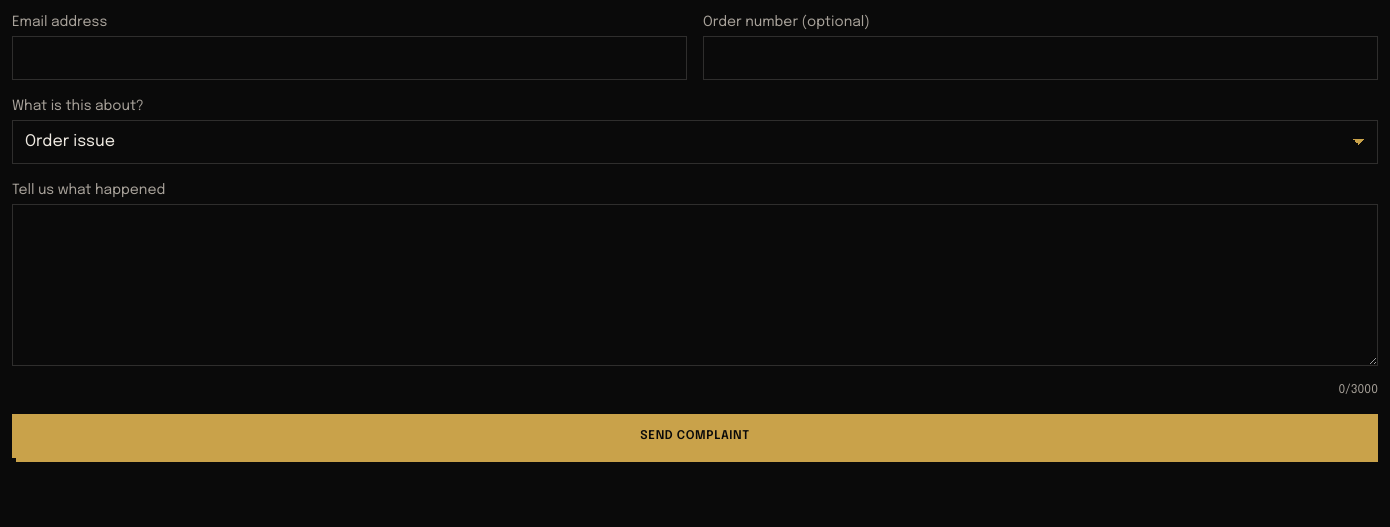
Test: ComplaintForm › submits complaint details and shows a reference
Type "customer@example.com" into the field labelled "Email address" at (350, 58), box [12,36,687,80]
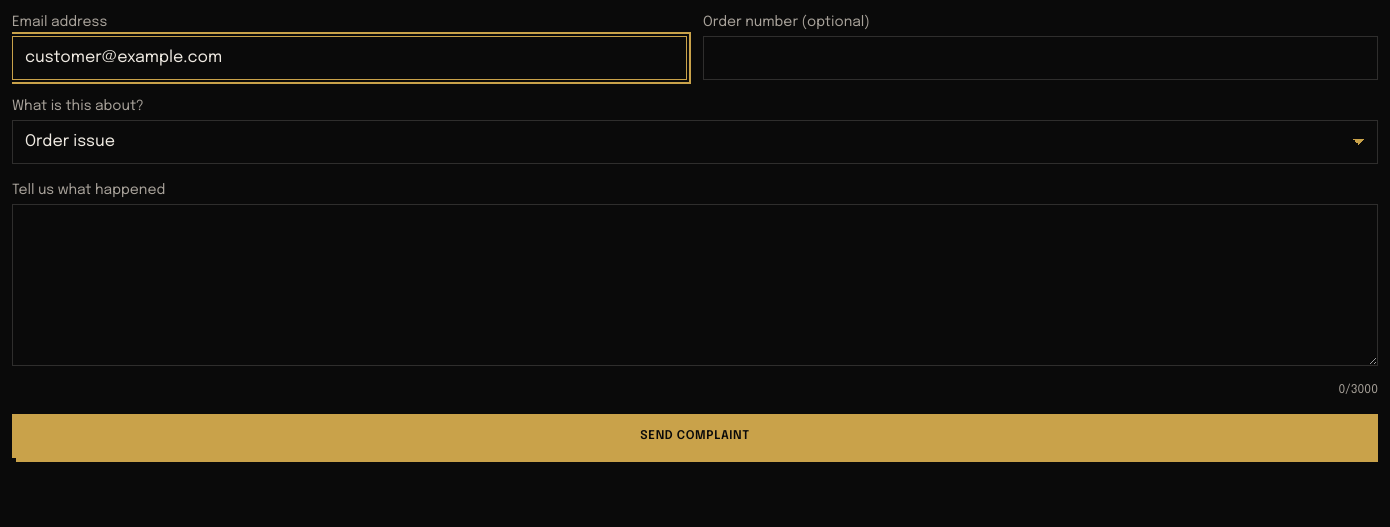
Type "MOM-123" into the field labelled "Order number (optional)" at (1040, 58), box [703,36,1378,80]
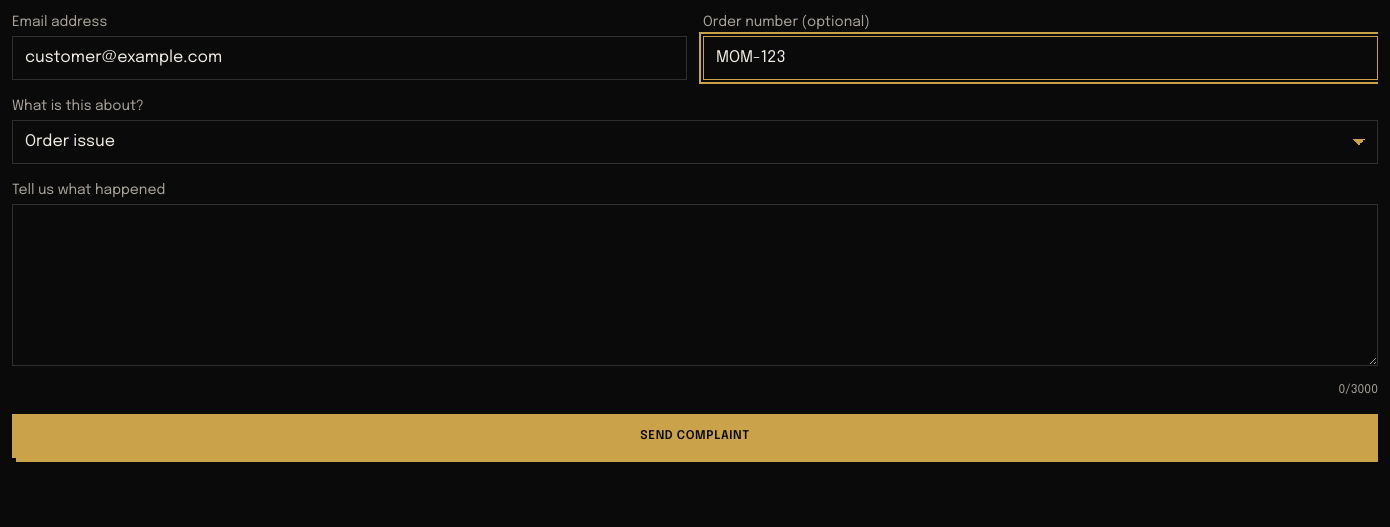
Select "Delivery" in the dropdown labelled "What is this about?" at (695, 142), box [12,120,1378,164]
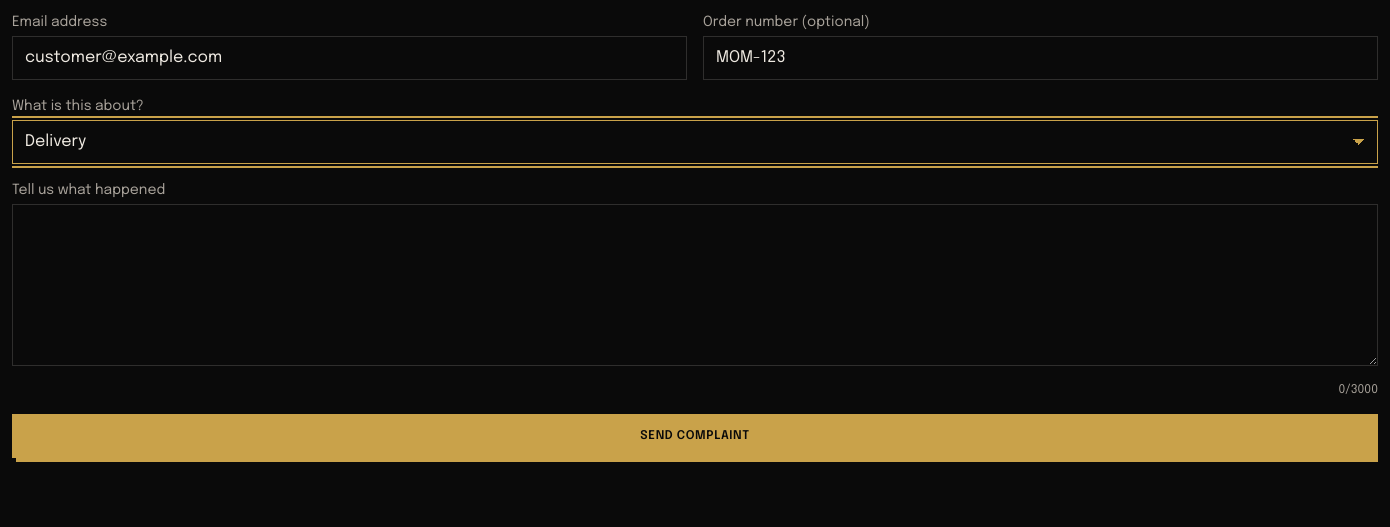
Type "My delivery has not arrived." into the text box labelled "Tell us what happened" at (695, 285), box [12,204,1378,366]
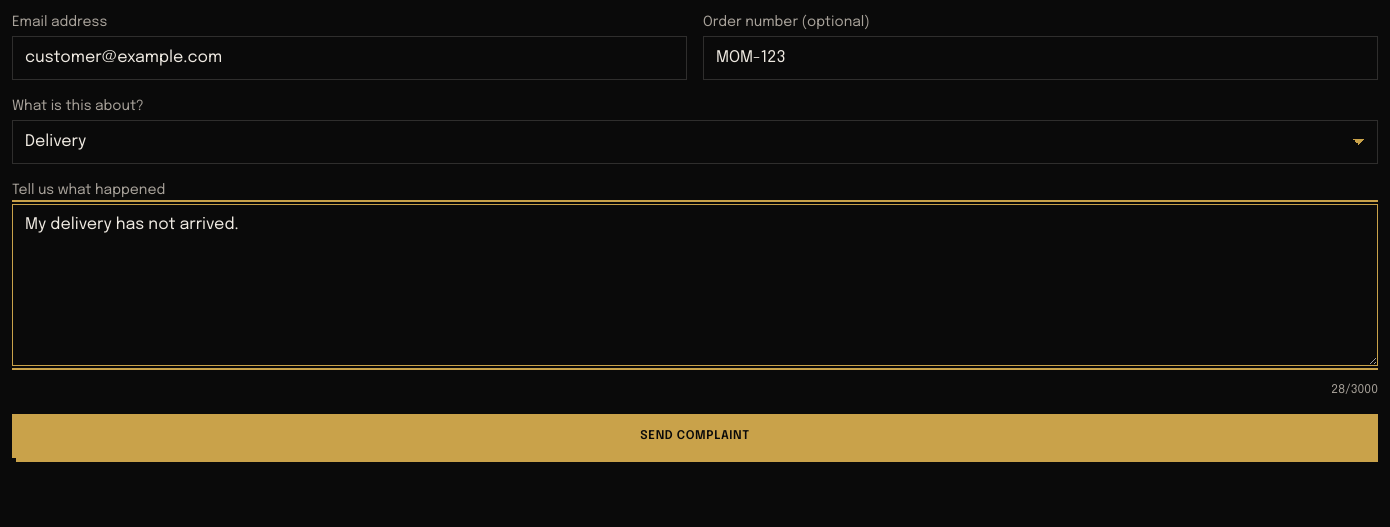
Click the button "Send complaint" at (695, 436), box [12,414,1378,458]
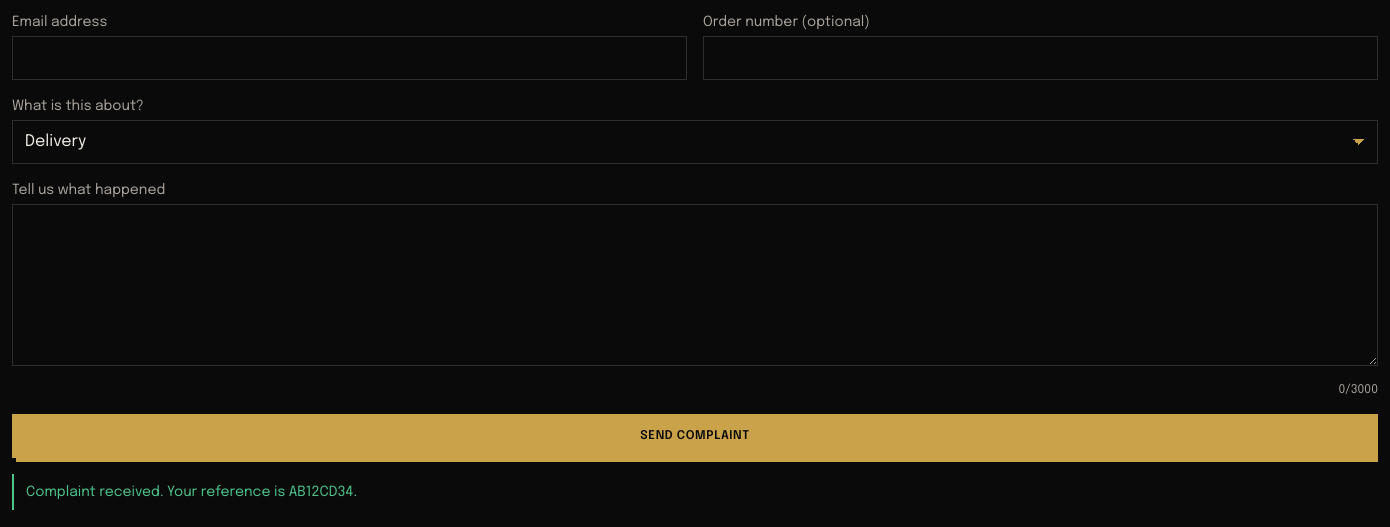
Result: the message shows "AB12CD34" at [289,485,353,499]
